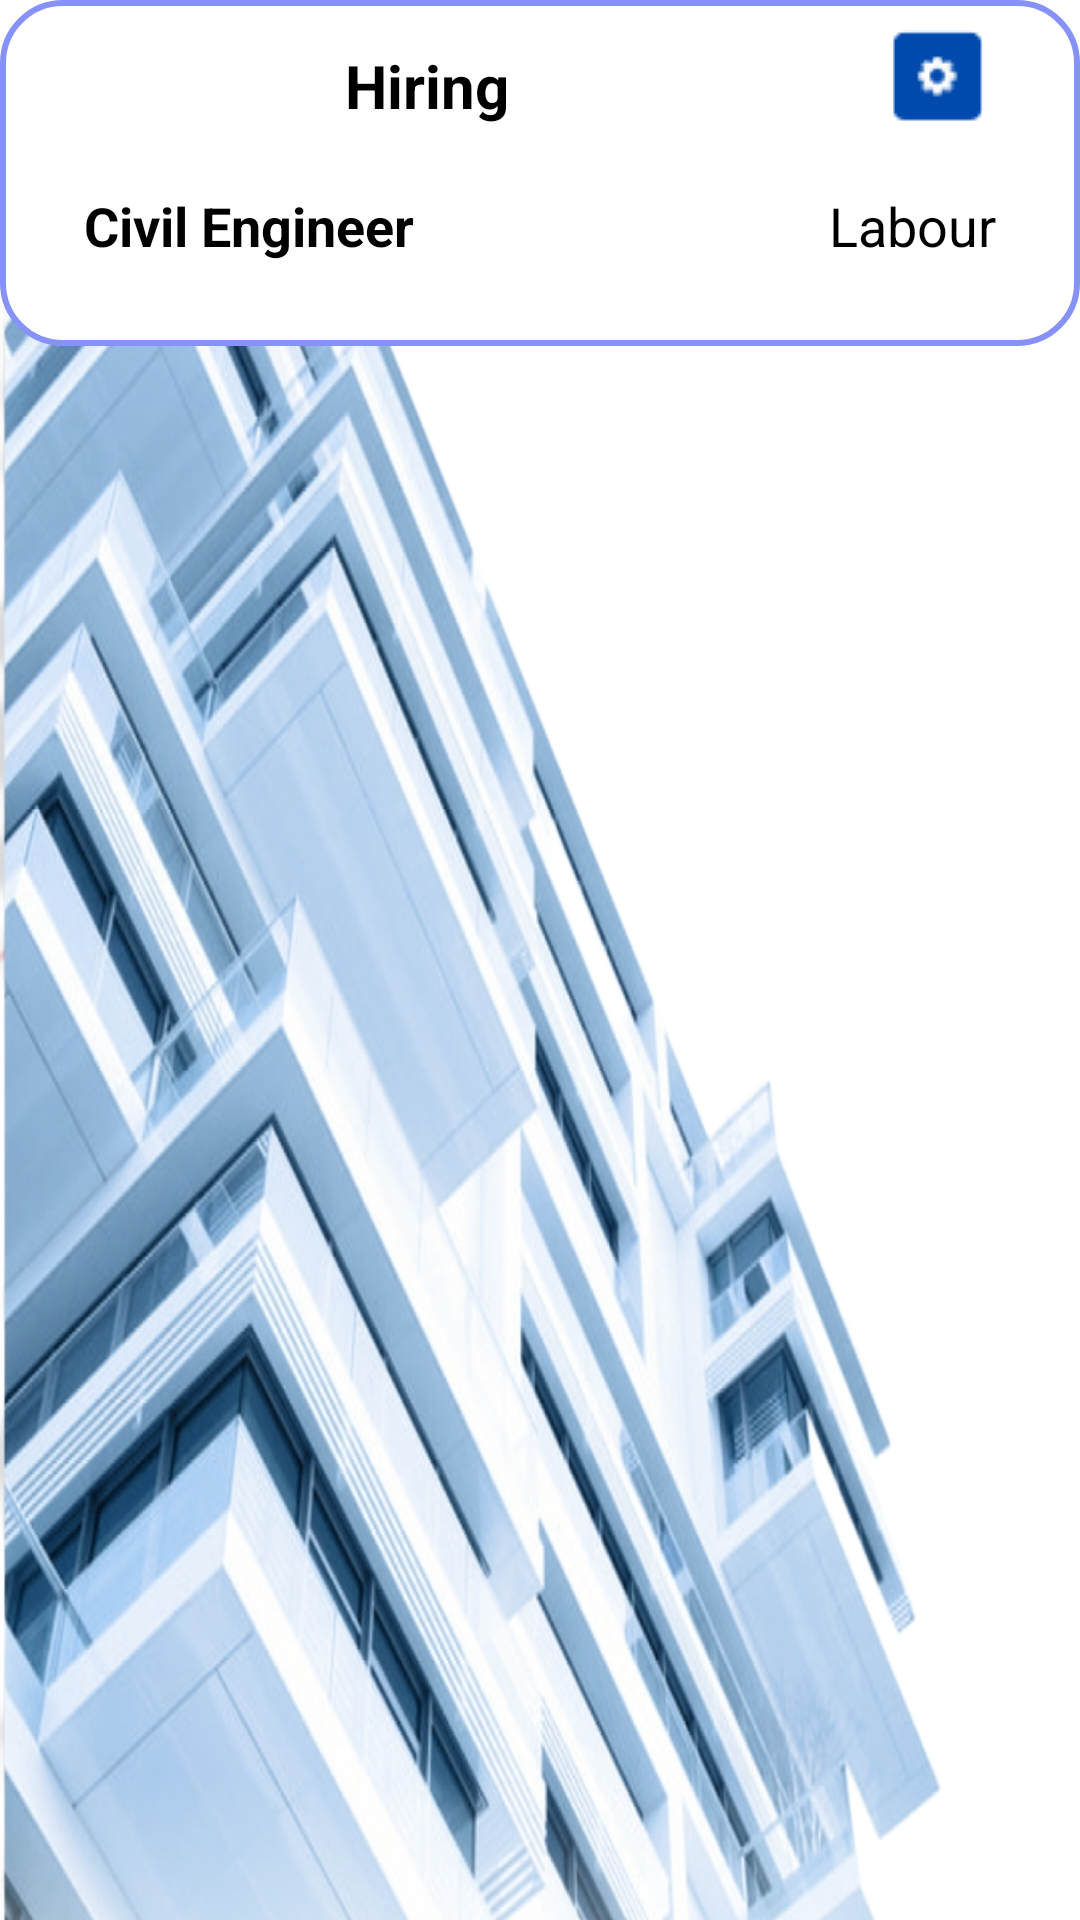

Icon bounding boxes for this 1080*1920 phone screenshot, format [x1, y1, x2, y2]:
setting: [893, 32, 982, 121]
